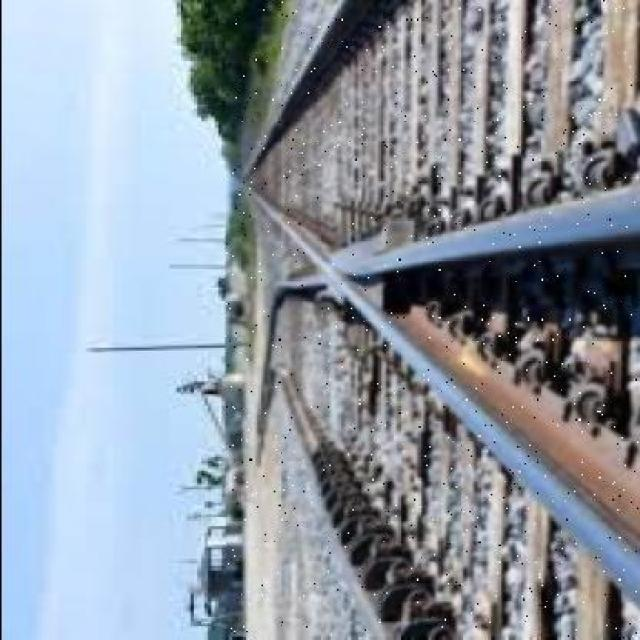rail: (225, 0, 640, 638)
